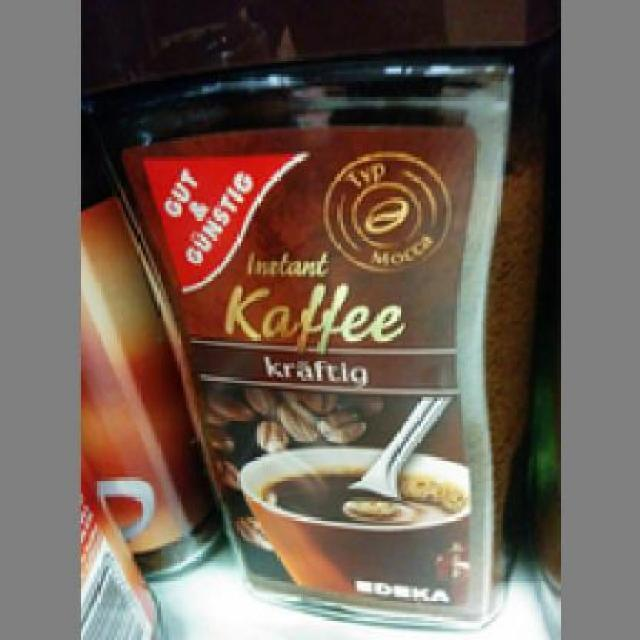Coffee: (77, 0, 550, 623)
